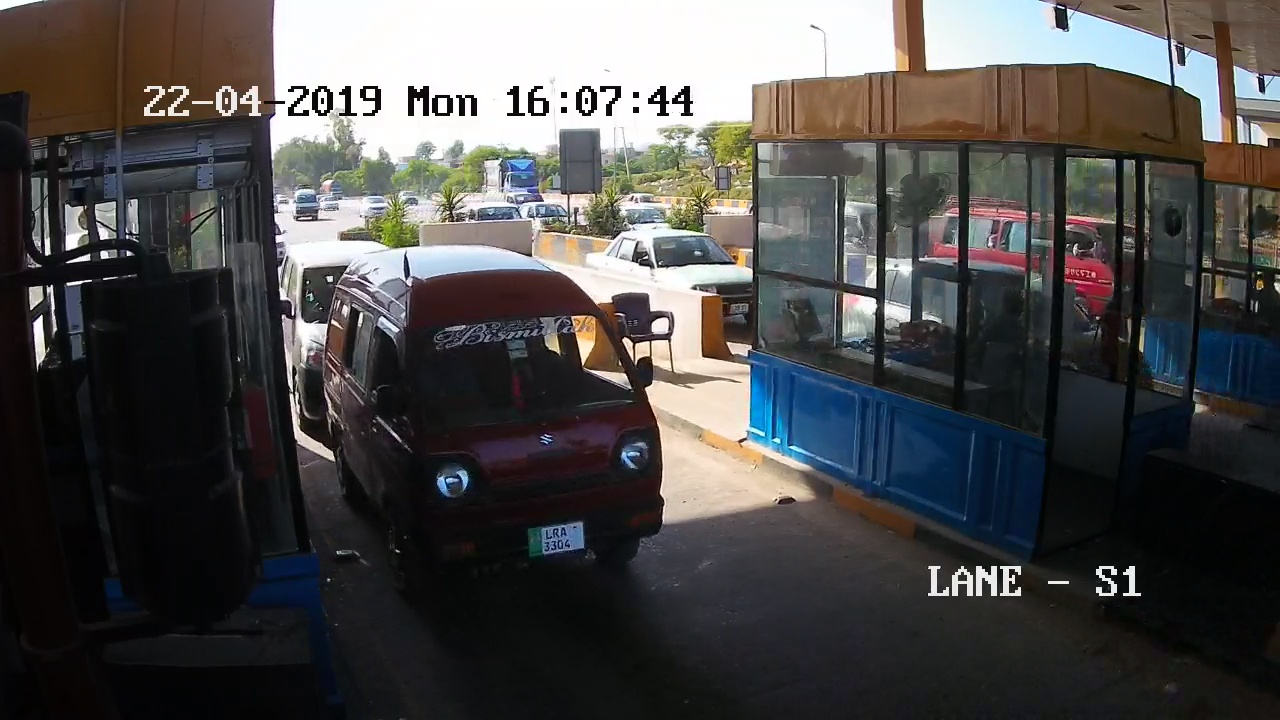Number Plate (Car): (526, 521, 586, 552)
